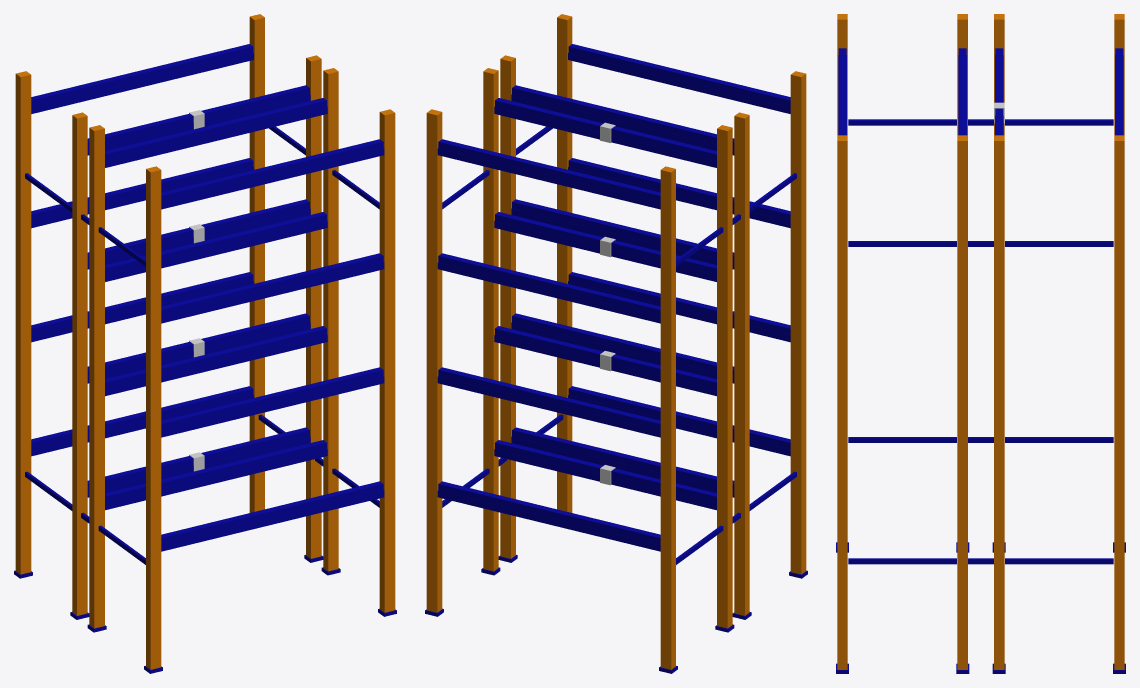
Rendered from high-duty-C23-4-pair.glb.
3 views of the same model, side by side, from view 1: azimuth 30°, elevation 25°; view 2: azimuth 150°, elevation 25°; view 3: azimuth 270°, elevation 25° (orthographic). The views are drawn at different scales.
Parts seen in each view (by area): view 1: group1_geometry_4, group2_geometry_2, group2_geometry_0, group2_geometry_4, group1_geometry_0, group2_geometry_6, group1_geometry_2, group1_geometry_6, group2_geometry_20, group2_geometry_8, group2_geometry_12, group2_geometry_16 (+28 smaller); view 2: group2_geometry_0, group1_geometry_6, group1_geometry_4, group1_geometry_0, group2_geometry_4, group1_geometry_2, group2_geometry_6, group2_geometry_2, group1_geometry_25, group1_geometry_10, group1_geometry_15, group1_geometry_20 (+28 smaller); view 3: group1_geometry_2, group1_geometry_6, group2_geometry_2, group2_geometry_6, group1_geometry_25, group2_geometry_20, group2_geometry_22, group1_geometry_29, group1_geometry_30, group2_geometry_25, group2_geometry_26, group1_geometry_23 (+8 smaller).
Boxes of the visible parts, x1,y1,x2,y2 form: group1_geometry_4: (15,71,31,574); group2_geometry_2: (379,109,395,612); group2_geometry_0: (146,166,161,669); group2_geometry_4: (89,125,104,628); group1_geometry_0: (72,112,87,615); group2_geometry_6: (323,68,338,571); group1_geometry_2: (306,55,321,558); group1_geometry_6: (249,14,264,512); group2_geometry_20: (161,139,383,202); group2_geometry_8: (161,481,383,544); group2_geometry_12: (161,367,383,430); group2_geometry_16: (161,253,383,316); group2_geometry_0: (790,71,806,574); group1_geometry_6: (426,109,442,612); group1_geometry_4: (660,166,675,669); group1_geometry_0: (717,125,732,628); group2_geometry_4: (734,112,749,615); group1_geometry_2: (483,68,498,571); group2_geometry_6: (500,55,515,558); group2_geometry_2: (557,14,572,512); group1_geometry_25: (438,139,660,202); group1_geometry_10: (438,481,660,544); group1_geometry_15: (438,367,660,430); group1_geometry_20: (438,253,660,316); group1_geometry_2: (994,135,1004,669); group1_geometry_6: (1114,135,1124,669); group2_geometry_2: (837,135,847,669); group2_geometry_6: (957,135,967,669); group1_geometry_25: (1115,48,1123,135); group2_geometry_20: (838,48,846,135); group2_geometry_22: (958,48,966,135); group1_geometry_29: (1005,119,1113,125); group1_geometry_30: (1005,558,1113,564); group2_geometry_25: (848,119,956,125); group2_geometry_26: (848,558,956,564); group1_geometry_23: (995,48,1003,135).
Size of the model in its own units: 2320 by 4500 by 2220.
